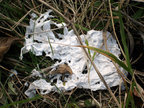litter: (24, 18, 124, 94)
